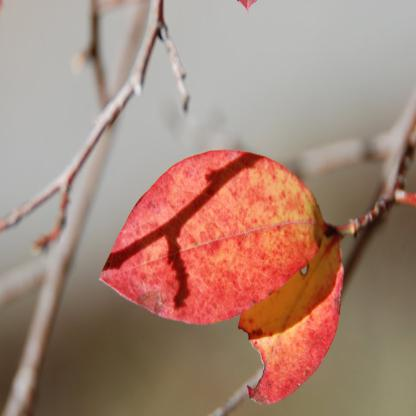blueberry leaf: (98, 150, 326, 329)
